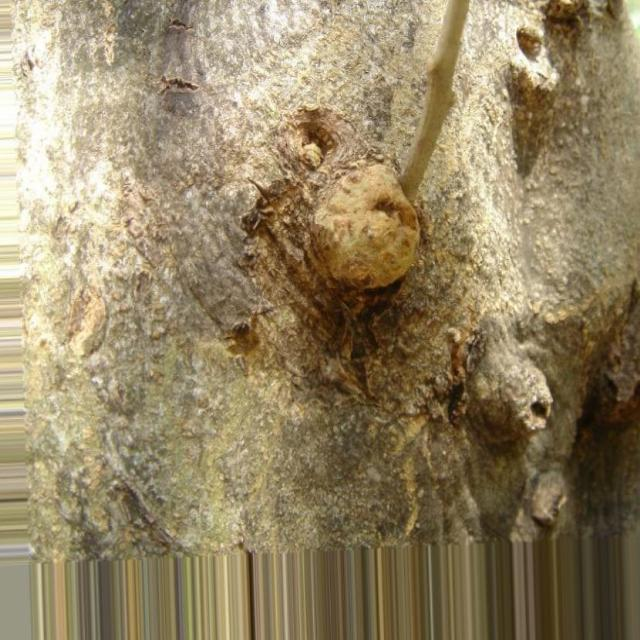Tuberculosis: (315, 165, 419, 292)
